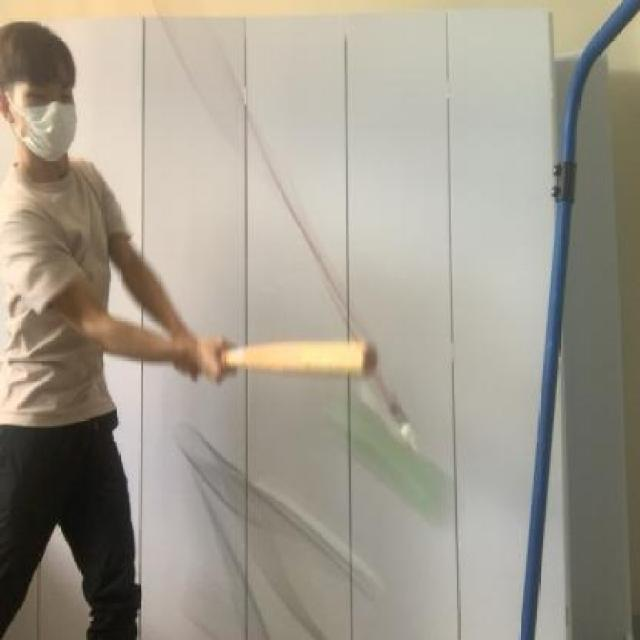baseball: (338, 405, 459, 530)
